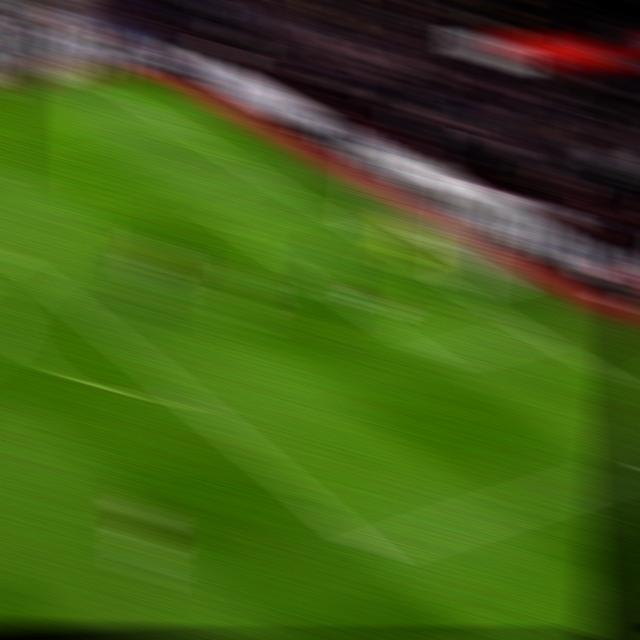bigarea_bottom_inner: (346, 529, 399, 574)
bigarea_top_outter: (186, 127, 231, 156)
bottom_arc_area_intersection: (164, 381, 216, 418)
corner: (73, 66, 121, 91)
smallarea_bottom_inner: (412, 339, 462, 378)
smallarea_bottom_outter: (511, 315, 558, 350)
smallarea_top_inner: (201, 204, 247, 238)
smallarea_top_outter: (290, 188, 336, 222)
top_arc_area_intersection: (8, 254, 53, 288)
